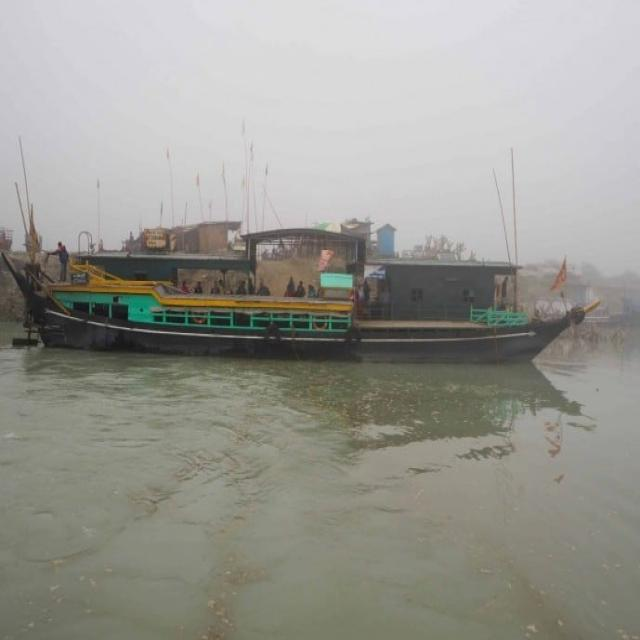houseboat: (14, 157, 583, 360)
